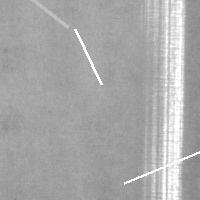scratches: (144, 1, 184, 198), (119, 144, 200, 188), (70, 24, 106, 89), (27, 0, 73, 32), (0, 167, 29, 200)
